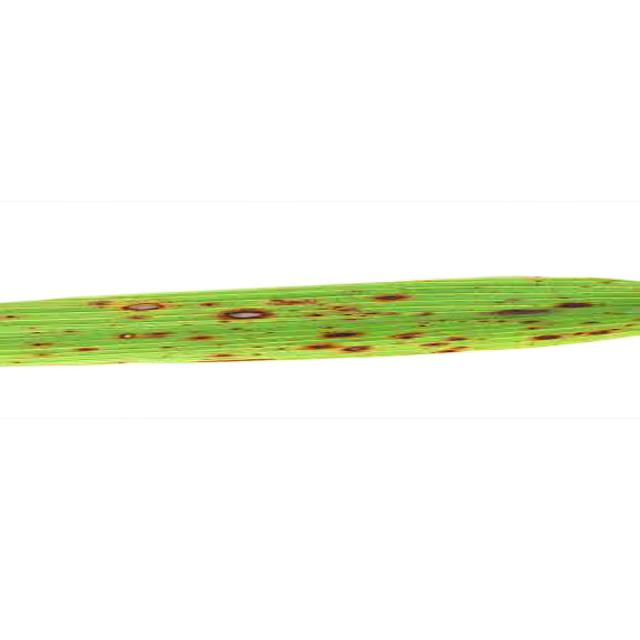Brown spot: (0, 235, 640, 392)
